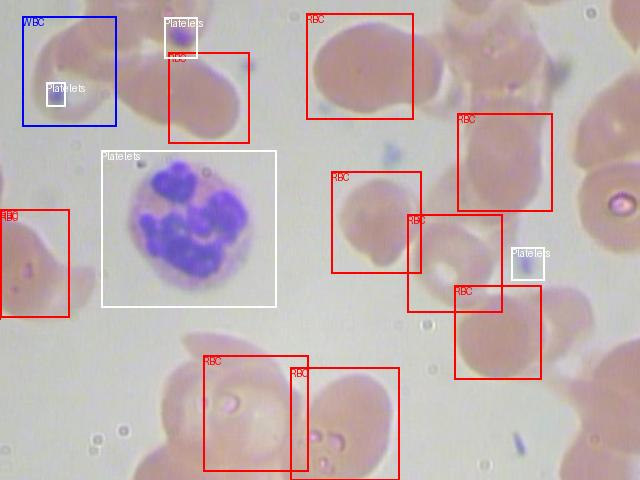Platelets: (101, 150, 276, 307), (164, 17, 197, 58), (511, 247, 544, 280), (46, 82, 65, 106)
RBC: (290, 367, 399, 480), (203, 355, 308, 471), (306, 13, 413, 119), (407, 214, 502, 312), (457, 113, 552, 211), (331, 171, 421, 273), (454, 285, 541, 379), (0, 209, 69, 317), (168, 52, 249, 143)
WBC: (22, 16, 116, 126)
